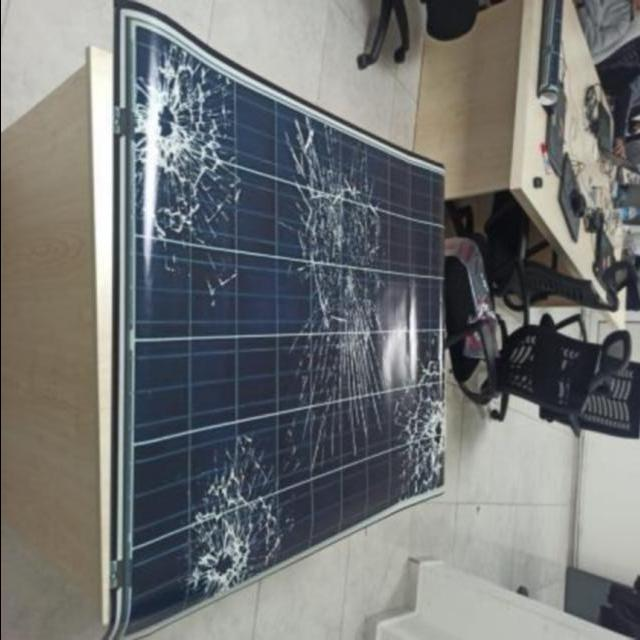cracked: (105, 17, 444, 637)
